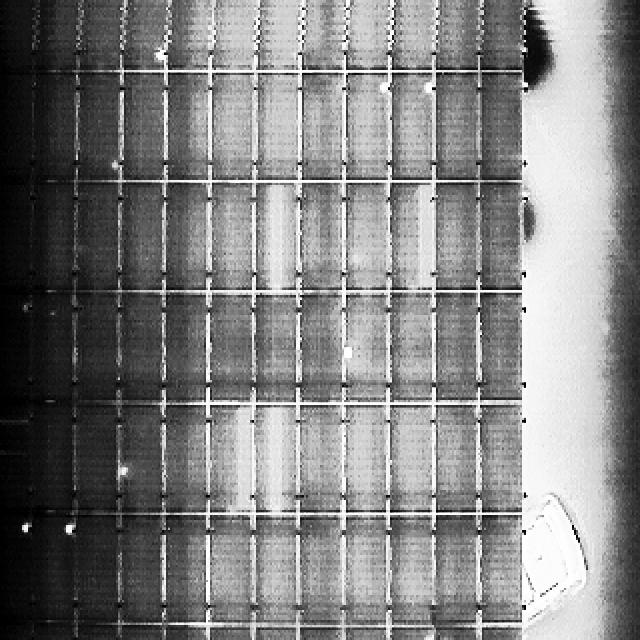Hotspots: (261, 399, 286, 522), (264, 182, 290, 300), (232, 405, 252, 516), (415, 185, 436, 290), (0, 415, 29, 431), (0, 440, 24, 458), (118, 458, 134, 480), (166, 157, 181, 175), (378, 79, 390, 96), (345, 343, 355, 363), (64, 524, 76, 540), (20, 521, 32, 536), (154, 45, 165, 61), (423, 82, 435, 95), (20, 302, 31, 316), (46, 308, 58, 317)
PV-modules: (0, 513, 73, 623), (23, 400, 74, 513), (254, 295, 302, 406), (432, 295, 480, 405), (432, 516, 480, 626), (26, 294, 73, 406), (388, 516, 435, 628), (432, 182, 480, 291), (208, 182, 256, 291), (208, 295, 255, 406), (479, 515, 526, 626), (296, 295, 343, 406), (118, 294, 164, 407), (209, 74, 257, 182), (207, 405, 255, 513), (254, 516, 301, 626), (118, 517, 165, 627), (342, 516, 388, 628), (75, 75, 122, 184), (436, 74, 483, 183), (255, 182, 302, 291), (208, 517, 255, 626), (478, 403, 524, 514), (30, 76, 76, 187), (390, 295, 436, 406), (165, 294, 210, 407), (255, 74, 302, 182), (254, 405, 301, 513), (436, 404, 482, 514), (73, 295, 119, 405), (119, 182, 165, 291), (389, 182, 435, 291), (166, 182, 212, 291), (120, 77, 167, 183), (343, 76, 390, 182), (342, 405, 388, 513), (343, 297, 389, 405), (389, 405, 435, 513), (479, 294, 524, 404), (300, 523, 346, 630), (479, 182, 524, 291), (29, 183, 74, 292), (390, 74, 435, 183), (165, 405, 210, 514), (119, 405, 164, 514), (72, 524, 119, 628), (300, 411, 347, 515), (72, 412, 119, 516), (166, 516, 210, 627), (301, 76, 347, 182), (301, 188, 347, 294), (343, 188, 389, 294), (74, 183, 119, 291), (480, 74, 524, 183), (168, 74, 212, 183), (0, 75, 32, 187), (0, 183, 32, 294), (0, 294, 31, 406), (390, 0, 438, 72), (122, 0, 170, 70), (258, 0, 306, 70), (168, 0, 214, 72), (36, 0, 82, 72), (344, 0, 390, 72), (300, 0, 346, 70), (78, 0, 124, 70), (480, 0, 526, 70), (438, 0, 484, 70), (210, 0, 256, 70), (0, 421, 32, 517), (0, 0, 36, 75), (31, 624, 78, 639), (74, 625, 120, 639), (434, 627, 482, 640), (478, 627, 527, 639), (167, 627, 209, 640), (391, 628, 434, 640)
